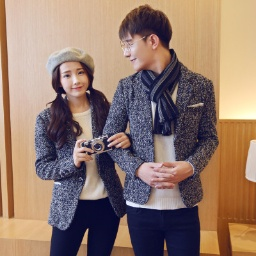face: (119, 3, 175, 71), (50, 57, 97, 101)
